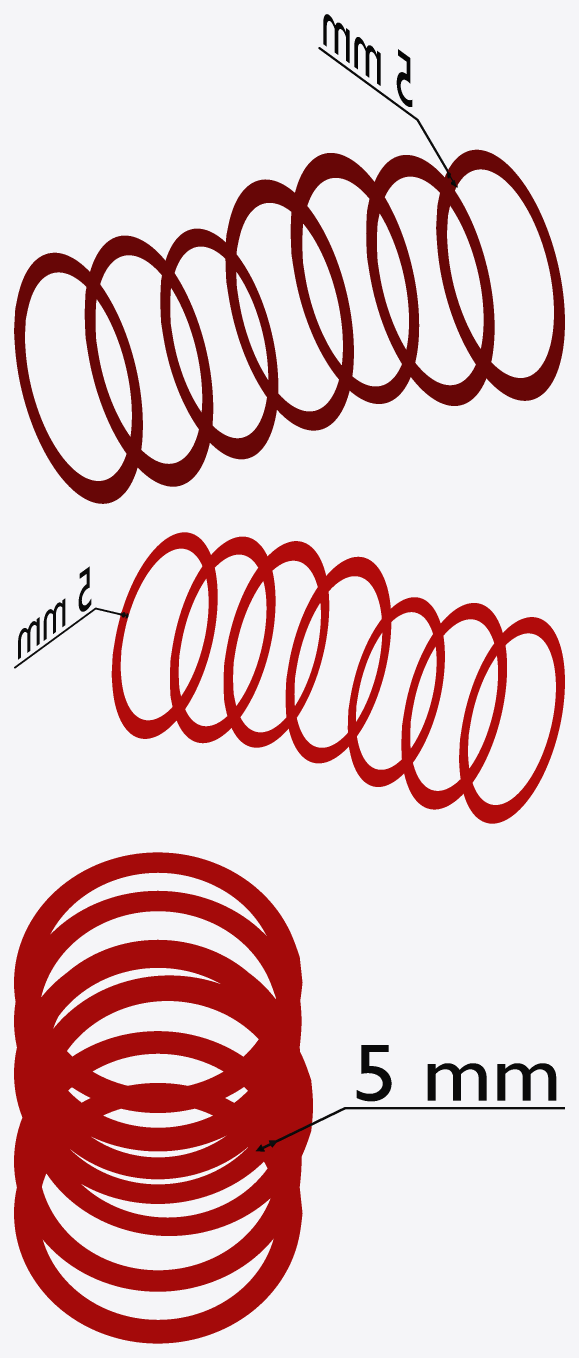
3 views of the same model, one above another, from view 1: azimuth 30°, elevation 25°; view 2: azimuth 150°, elevation 25°; view 3: azimuth 270°, elevation 25° (orthographic). The views are drawn at different scales.
Visible parts, largest first — view 1: ZT_circu, Text.001; view 2: ZT_circu, Text.001; view 3: ZT_circu, Text.001, NurbsPath.001.
Part boxes in pixels (x1,y1,x2,y2): ZT_circu: (14,149,564,503); Text.001: (323,14,412,106); ZT_circu: (111,532,564,823); Text.001: (18,566,91,659); ZT_circu: (14,852,312,1343); Text.001: (356,1045,556,1101); NurbsPath.001: (262,1107,564,1148).
Size of the model in its own units: 4.23 by 2.54 by 4.24.
